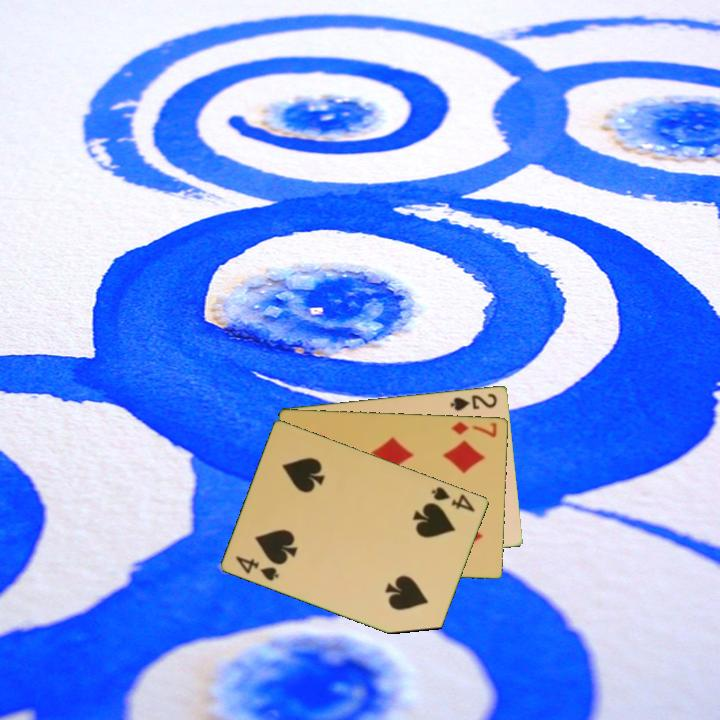2s: (447, 389, 500, 413)
4s: (428, 483, 478, 515), (232, 552, 282, 584)
7d: (448, 418, 500, 439)
